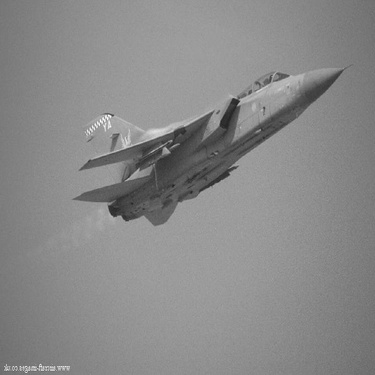airplane: (64, 63, 346, 232)
